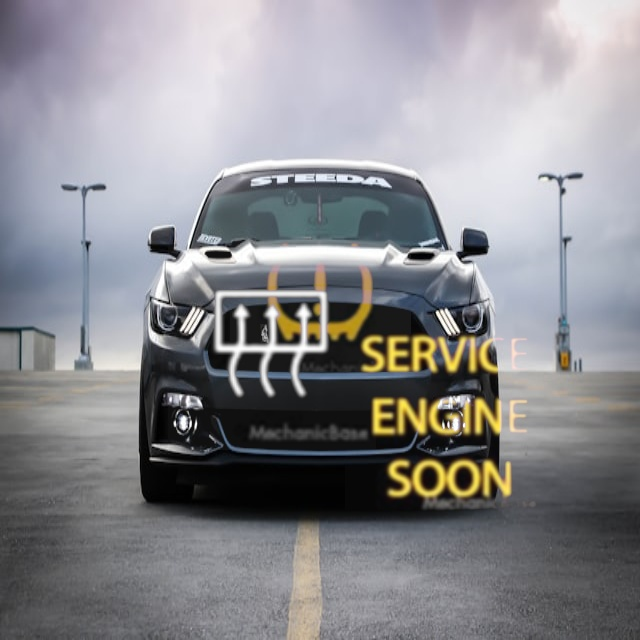symbol: (168, 242, 376, 450), (345, 319, 545, 519), (230, 202, 411, 383)
